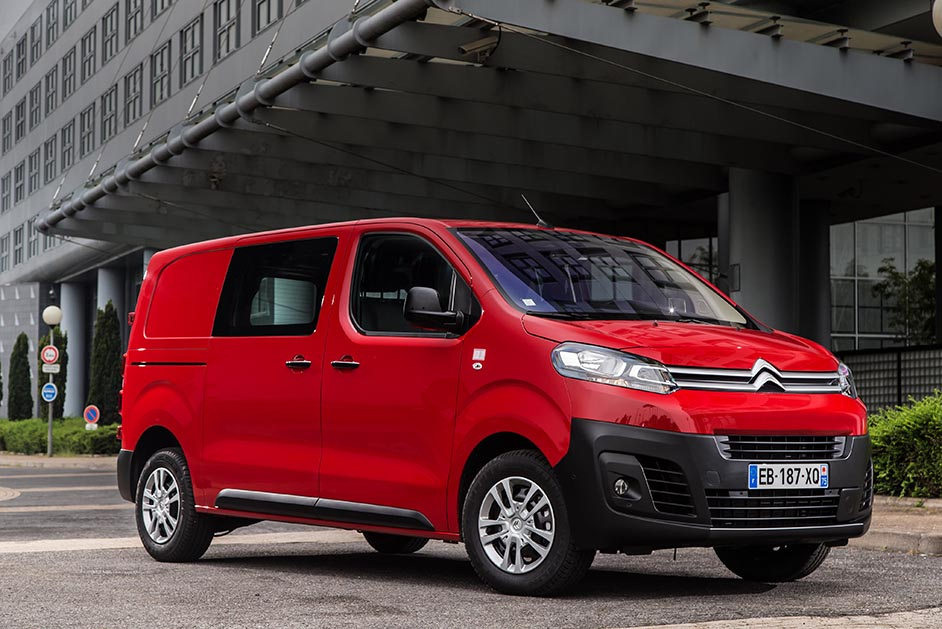Carro: (116, 227, 874, 590)
